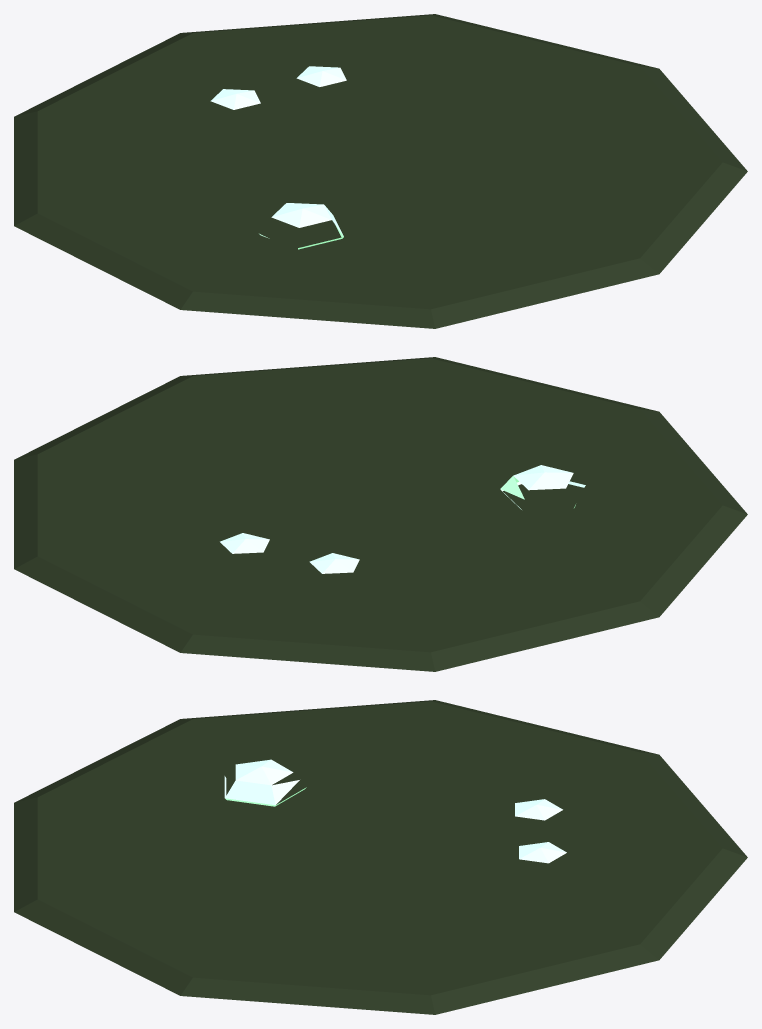
File: prop_foul_pool_lod1.glb
3 renders of one model, top to bottom at view 1: azimuth 30°, elevation 25°; view 2: azimuth 150°, elevation 25°; view 3: azimuth 270°, elevation 25°, orthographic.
Parts seen in each view (by area): view 1: prop_foul_pool_lod1; view 2: prop_foul_pool_lod1; view 3: prop_foul_pool_lod1.
Boxes of the visible parts, <box> form: prop_foul_pool_lod1: <box>14,14,747,328</box>; prop_foul_pool_lod1: <box>14,357,747,671</box>; prop_foul_pool_lod1: <box>14,700,747,1014</box>.
Bounding box in the file's own units: 2.95 × 0.18 × 2.91.
